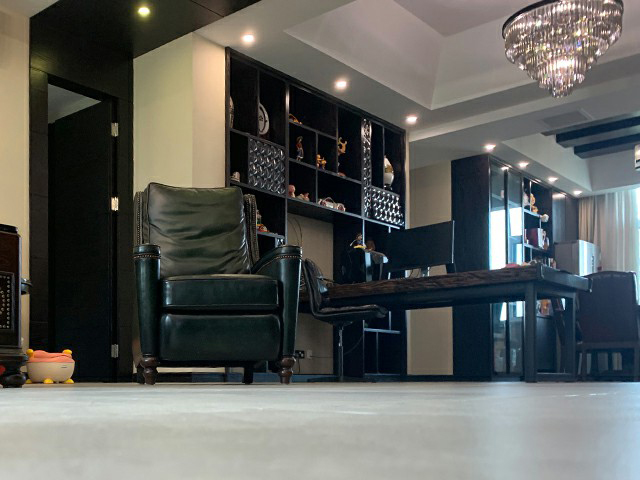cabinet: (223, 47, 408, 384), (451, 152, 580, 383)
sofa: (129, 181, 303, 385)
stool: (301, 257, 387, 384), (578, 269, 640, 382)
table: (327, 262, 592, 383)
